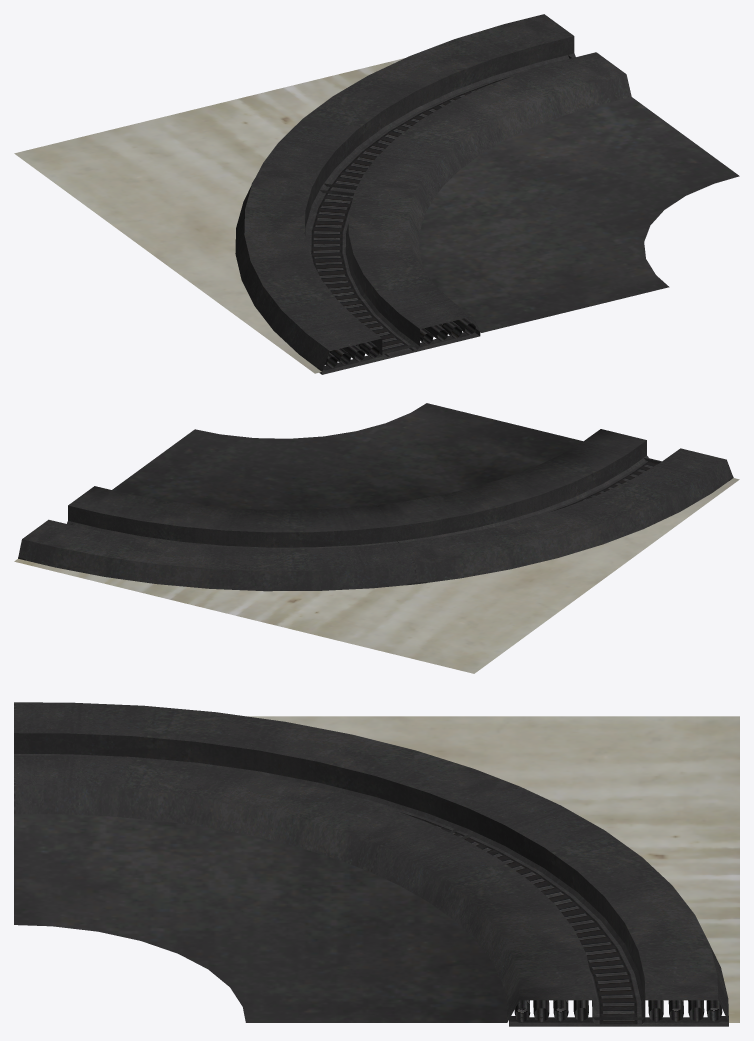
The model's file is lab_cable_ladder_turn_outer.dae.
3 renders of one model, top to bottom at view 1: azimuth 30°, elevation 25°; view 2: azimuth 150°, elevation 25°; view 3: azimuth 270°, elevation 25°, orthographic. The views are drawn at different scales.
Visible parts, largest first — view 1: lab_cable_ladder_turn_outer; view 2: lab_cable_ladder_turn_outer; view 3: lab_cable_ladder_turn_outer.
Part boxes in pixels (<box>): lab_cable_ladder_turn_outer: <box>14,14,739,374</box>; lab_cable_ladder_turn_outer: <box>14,403,739,673</box>; lab_cable_ladder_turn_outer: <box>14,702,739,1026</box>.
Size of the model in its own units: 6 by 0.2398 by 6.
